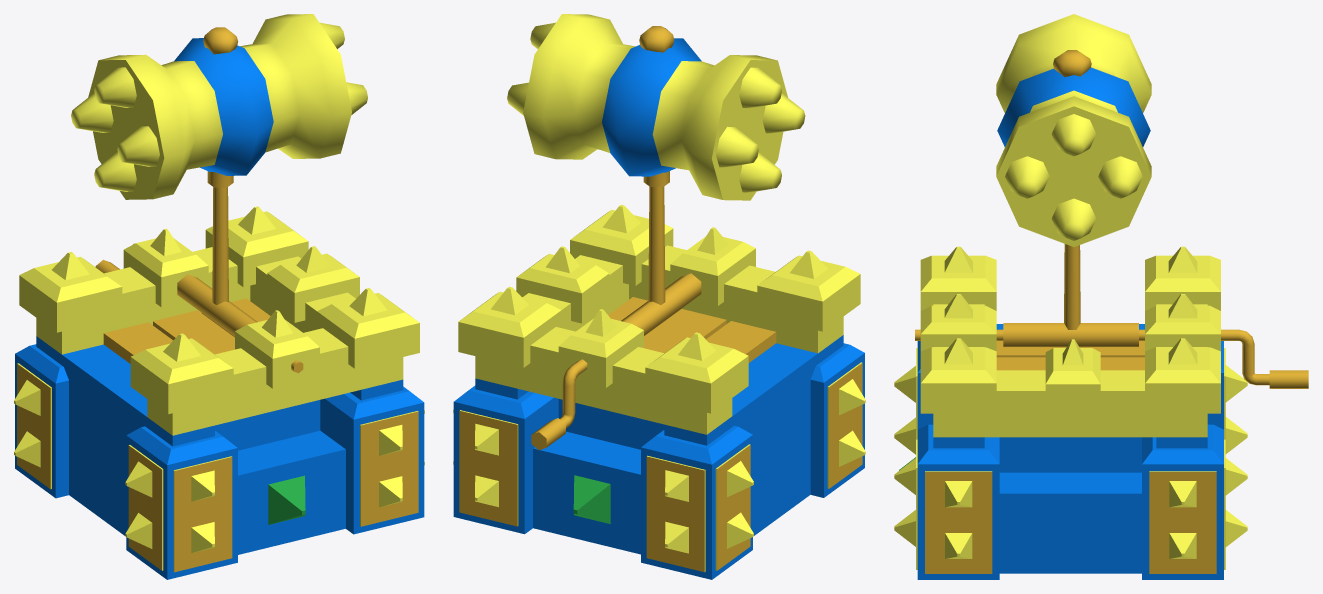
The model's file is hammer-model3.fbx.
3 renders of one model, left to right at view 1: azimuth 30°, elevation 25°; view 2: azimuth 150°, elevation 25°; view 3: azimuth 270°, elevation 25°, orthographic.
Visible parts, largest first — view 1: hammer-model3, hammer-model3.02; view 2: hammer-model3, hammer-model3.02, hammer-model3.01; view 3: hammer-model3, hammer-model3.02, hammer-model3.01.
Boxes of the visible parts, <box> form: hammer-model3: <box>14,206,424,579</box>; hammer-model3.02: <box>71,14,367,373</box>; hammer-model3: <box>453,205,865,579</box>; hammer-model3.02: <box>507,14,805,335</box>; hammer-model3.01: <box>531,359,587,450</box>; hammer-model3: <box>894,246,1247,579</box>; hammer-model3.02: <box>915,14,1151,347</box>; hammer-model3.01: <box>1139,329,1308,388</box>.
Bounding box in the file's own units: 2.73 × 4.03 × 3.26.
